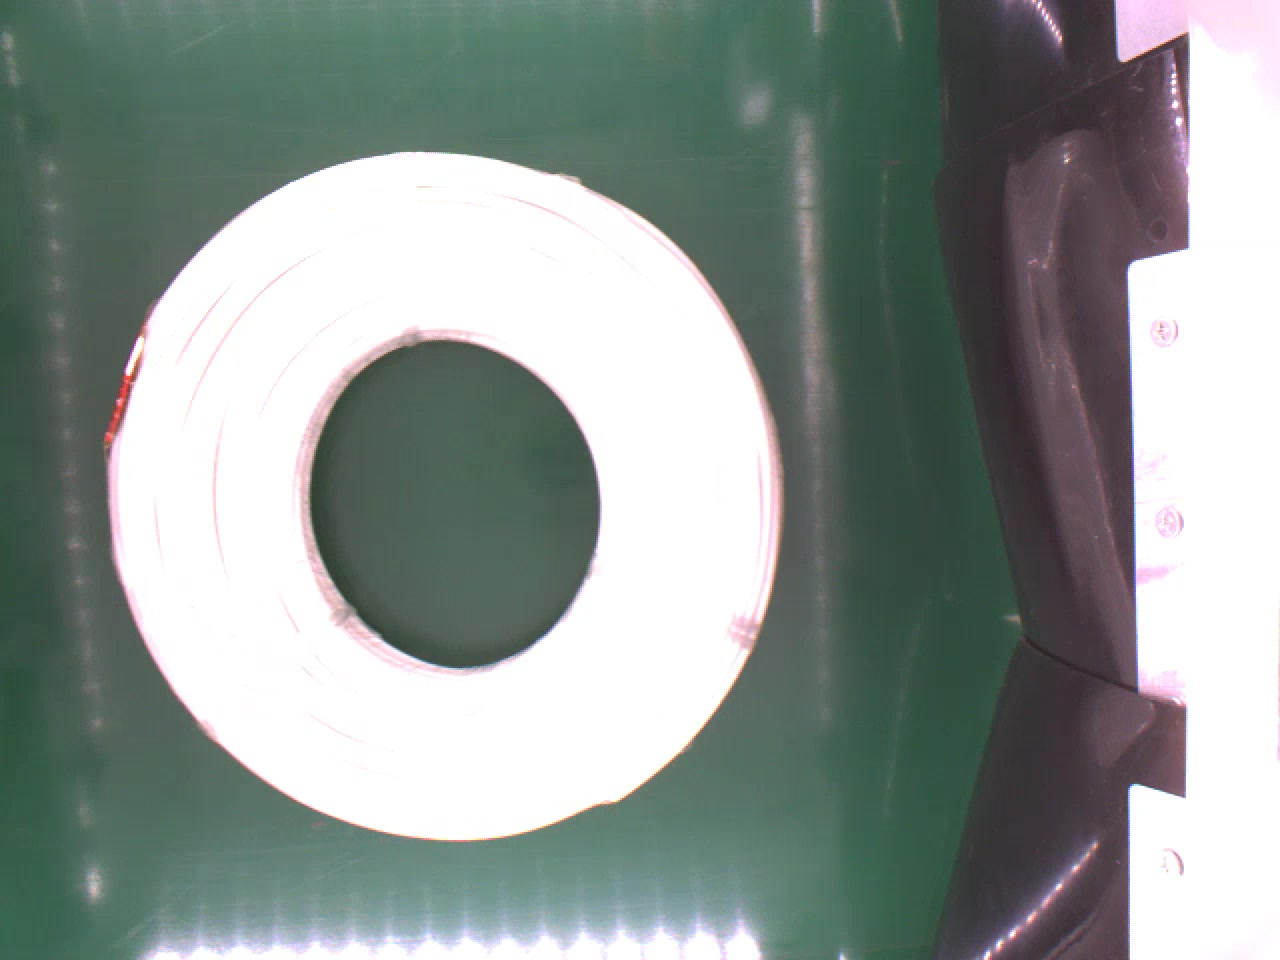white: (100, 144, 784, 849)
